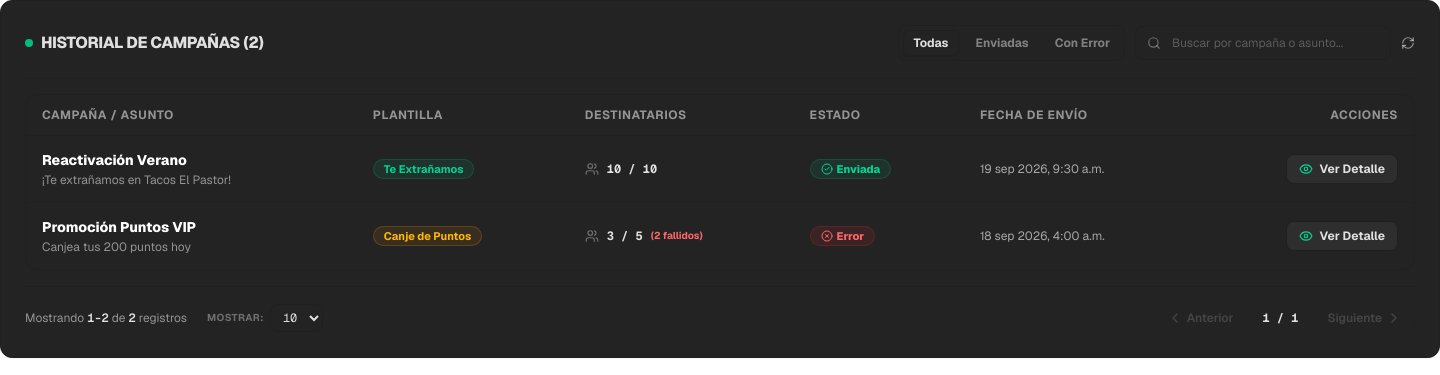
Scenario: CampaignsHistoryTable Component › should filter campaigns by search input and status buttons
Type "VIP" into the field with placeholder "Buscar por campaña o asunto...". click: (1263,43)
box: [1135,26,1391,60]
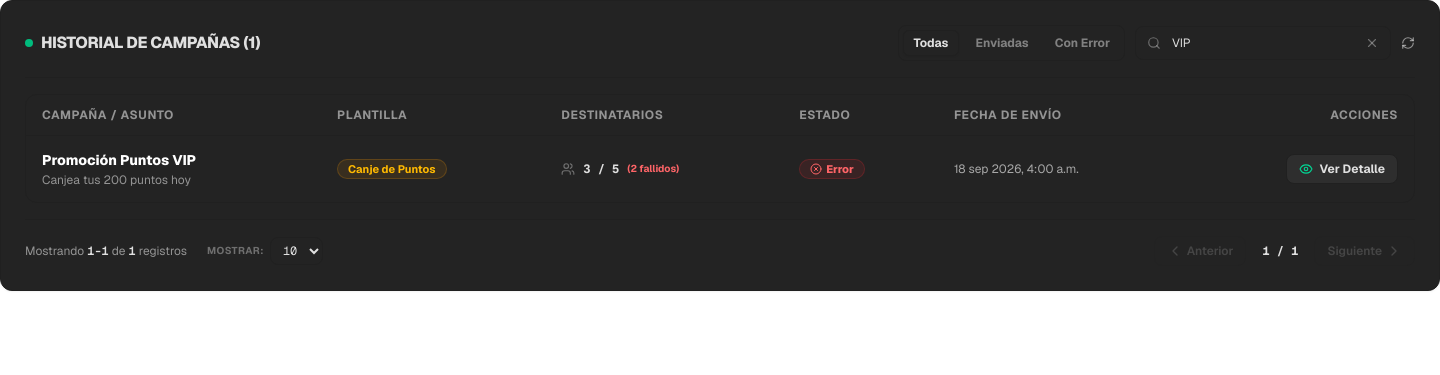
Check: the text "Promoción Puntos VIP" is shown, box [42,151,196,169]
Check: the text "Reactivación Verano" is gone
Clear the field with placeholder "Buscar por campaña o asunto...". click: (1263,43)
box: [1135,26,1391,60]
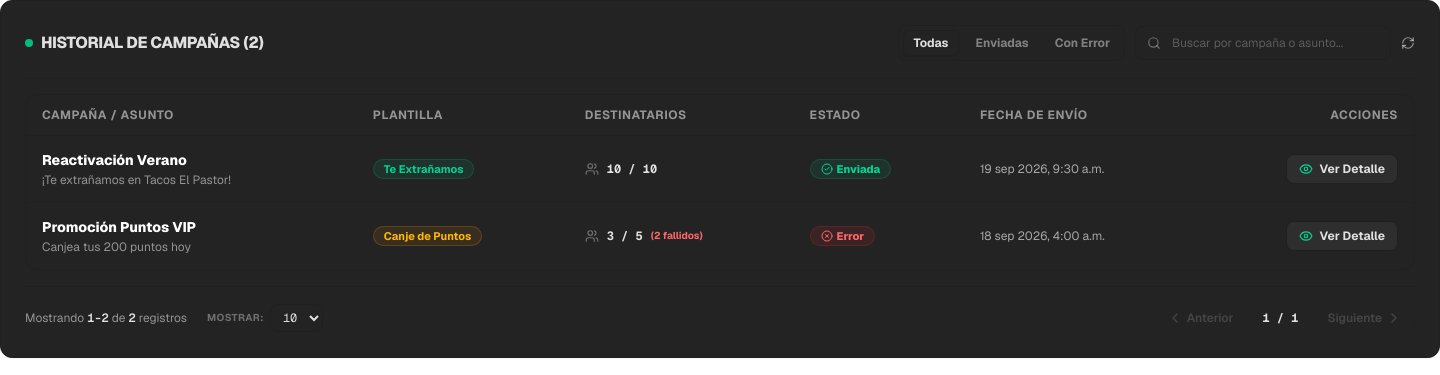
Check: the text "Reactivación Verano" is shown, box [42,151,187,169]
Note: Filter by status 'Enviadas'
Click the button "Enviadas". click: (1002,43)
box: [966,31,1039,55]
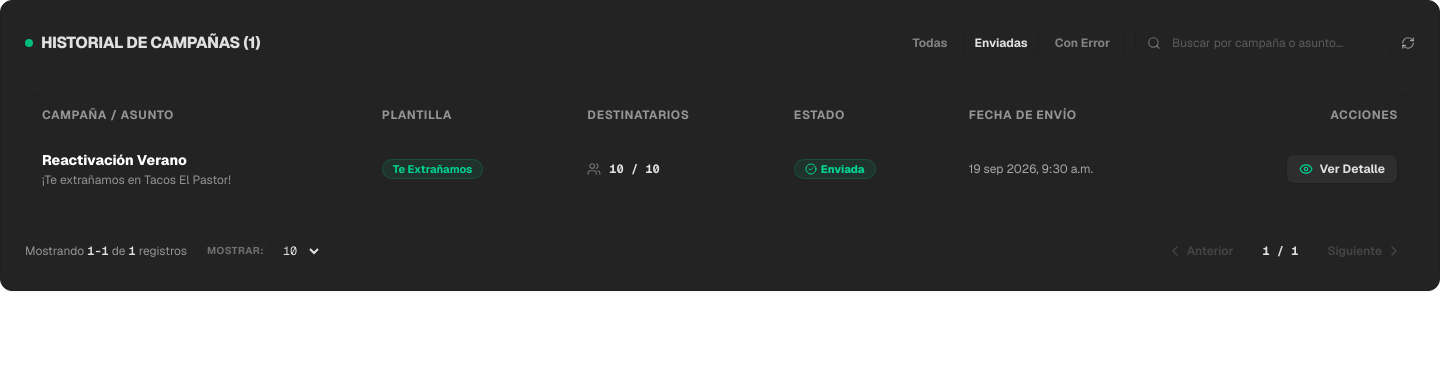
Check: the text "Reactivación Verano" is shown, box [42,151,187,169]
Check: the text "Promoción Puntos VIP" is gone
